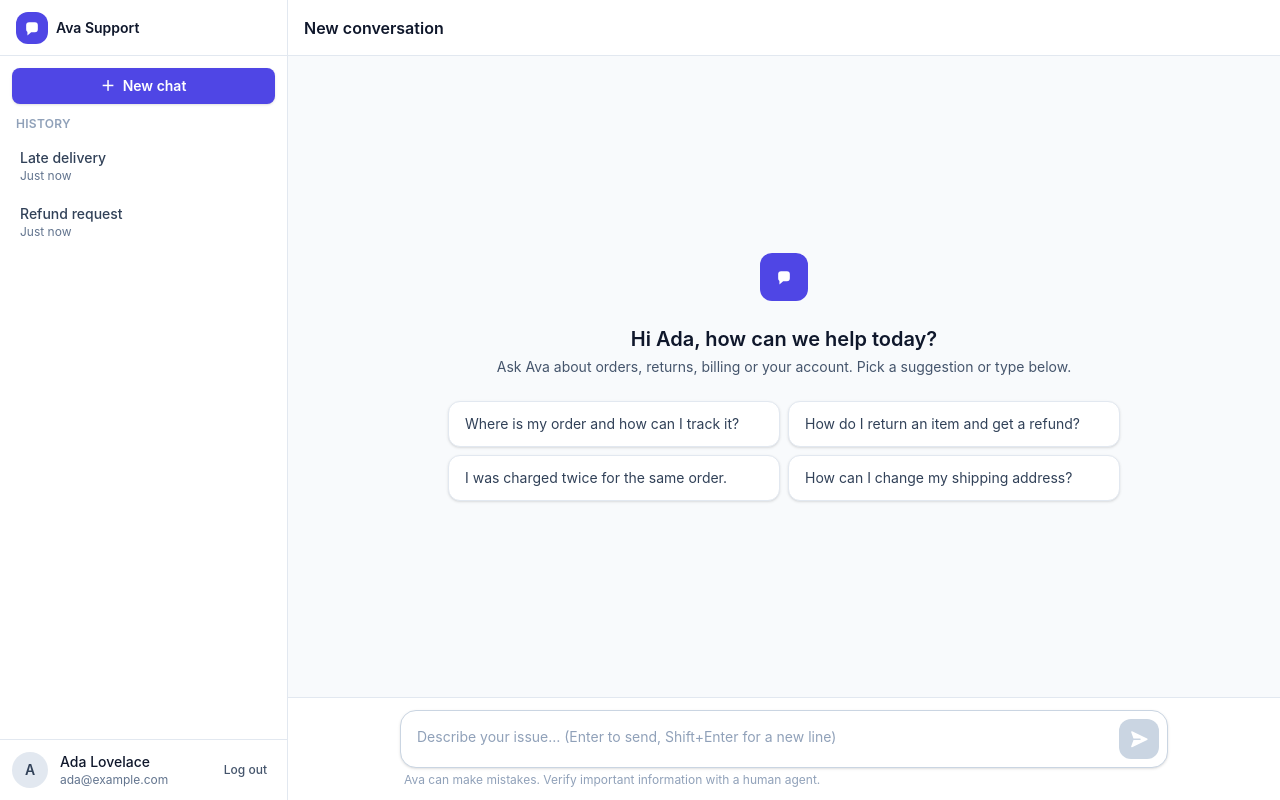
Test: Chat dashboard › selects a conversation from the sidebar and shows its messages
The width and height of the screenshot is (1280, 800).
Click the button "Refund request Just now" at (71, 214), box [8,196,279,248]
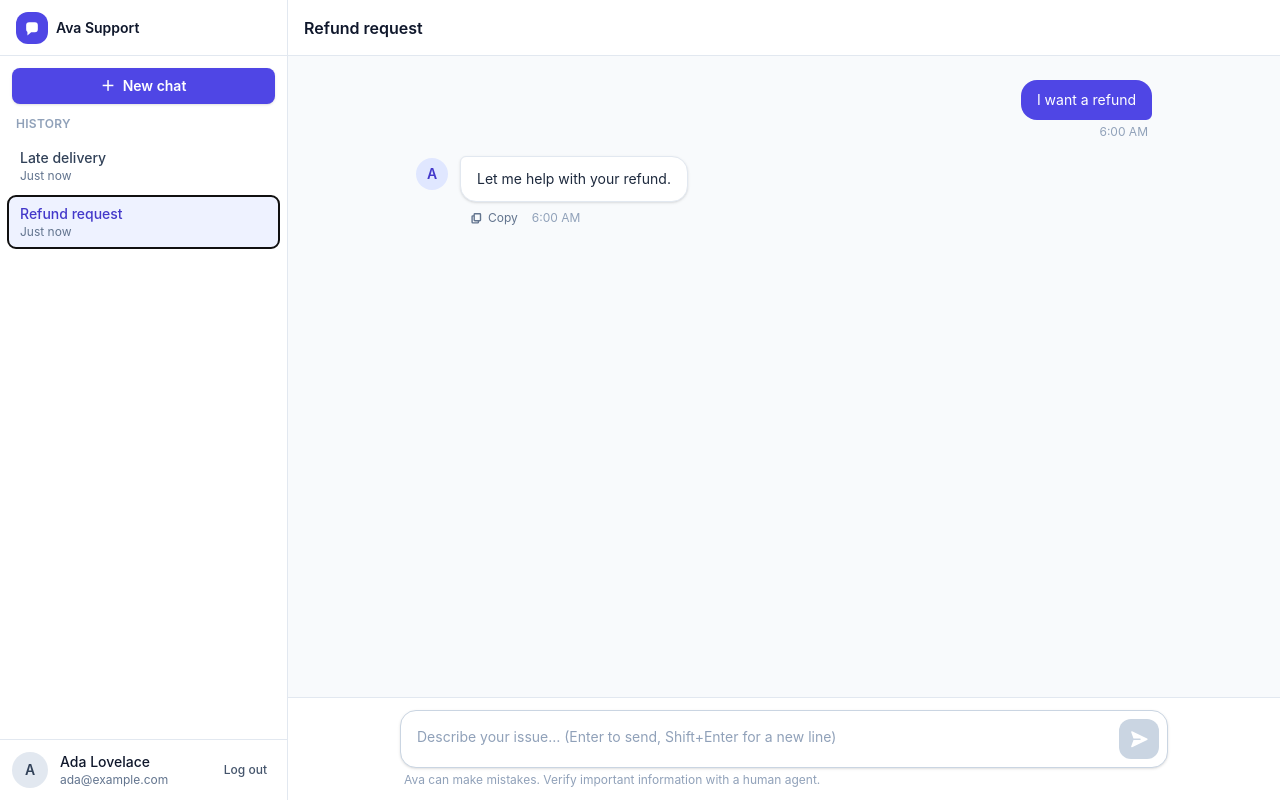
Expected: the text "Let me help with your refund." is shown, [477,169,671,189]
Expected: the heading "Refund request" is shown, [304,16,423,40]
